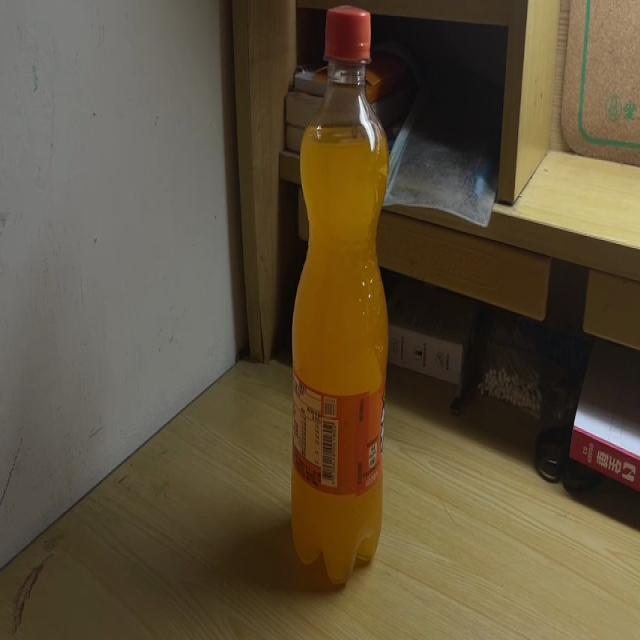Fanta: (288, 8, 388, 584)
